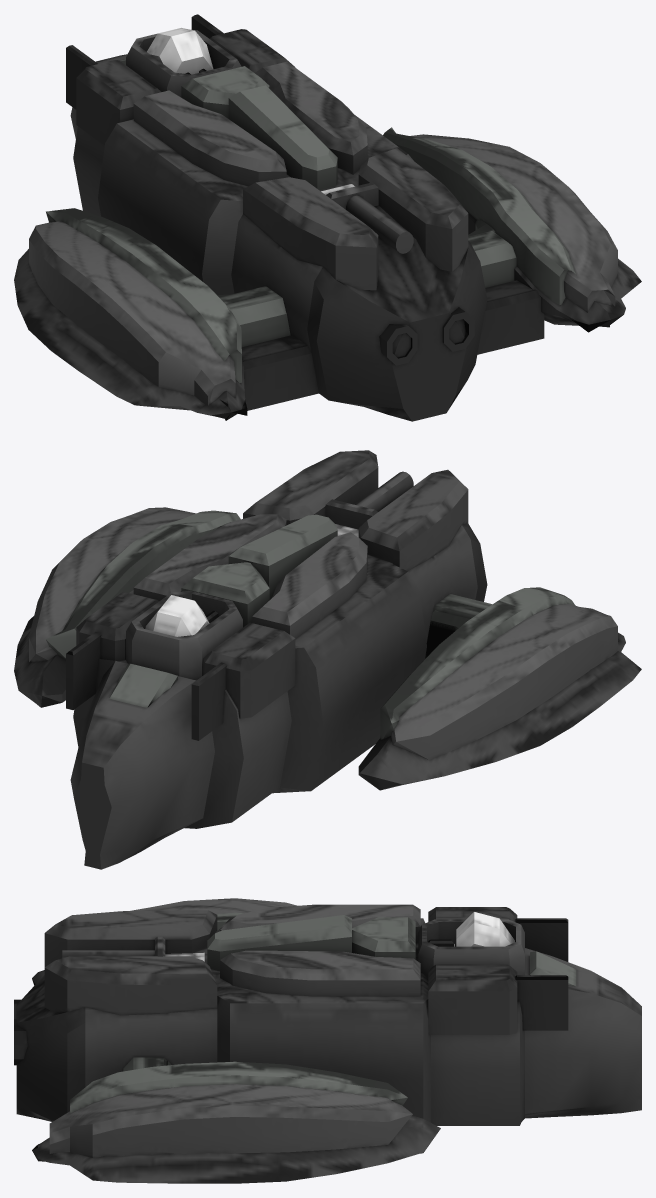
Rendered from ship-gencore-phoenix.glb.
3 views of the same model, one above another, from view 1: azimuth 30°, elevation 25°; view 2: azimuth 150°, elevation 25°; view 3: azimuth 270°, elevation 25° (orthographic). The views are drawn at different scales.
Parts seen in each view (by area): view 1: ship-gencore-phoenix; view 2: ship-gencore-phoenix; view 3: ship-gencore-phoenix.
Part boxes in pixels (bbox=[...]): ship-gencore-phoenix: bbox=[14, 14, 641, 421]; ship-gencore-phoenix: bbox=[14, 450, 641, 869]; ship-gencore-phoenix: bbox=[14, 898, 641, 1183].
Bounding box in the file's own units: 1.83 × 0.6844 × 2.06.
Materials: 7 (7 with a texture image).
